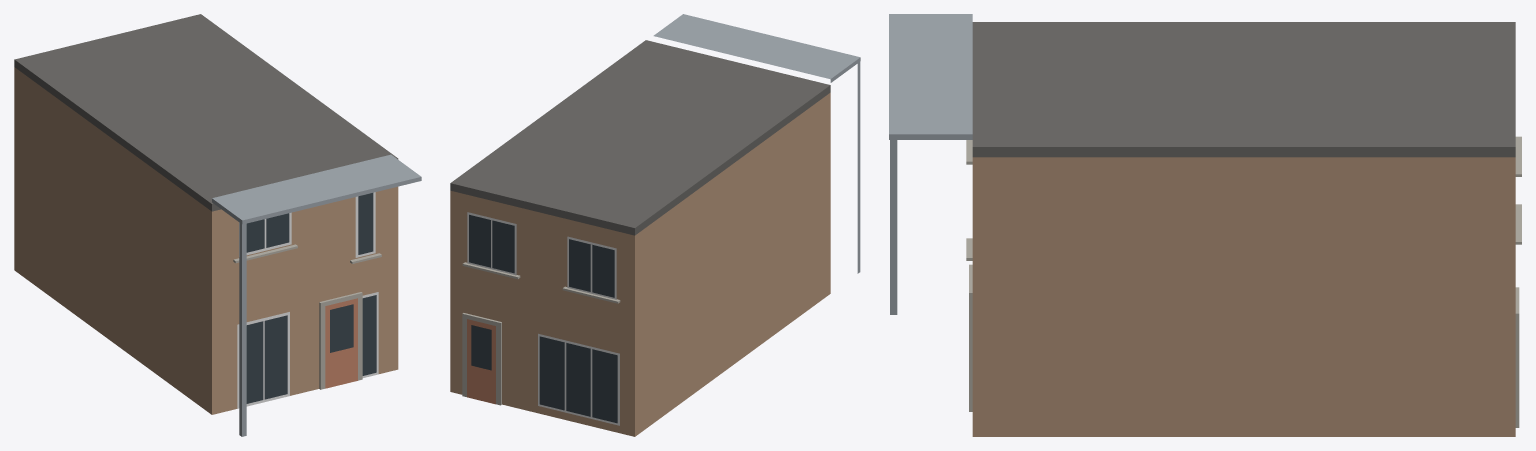
The model's file is zo-gk-pergola__orange__2__flat__long__solid.glb.
3 renders of one model, left to right at view 1: azimuth 30°, elevation 25°; view 2: azimuth 150°, elevation 25°; view 3: azimuth 270°, elevation 25°, orthographic. The views are drawn at different scales.
Parts seen in each view (by area): view 1: zo-gk-pergola__orange__2__flat__long__solid; view 2: zo-gk-pergola__orange__2__flat__long__solid; view 3: zo-gk-pergola__orange__2__flat__long__solid.
Boxes of the visible parts, box(x1,y1,x2,y2) form: zo-gk-pergola__orange__2__flat__long__solid: box(14, 14, 421, 436); zo-gk-pergola__orange__2__flat__long__solid: box(450, 14, 860, 436); zo-gk-pergola__orange__2__flat__long__solid: box(889, 14, 1521, 436).
Size of the model in its own units: 5.67 by 6.3 by 12.13.
